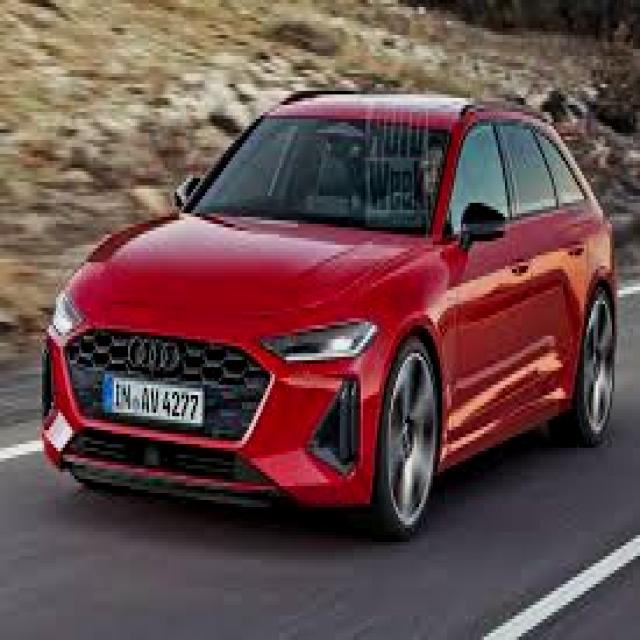SUV: (38, 90, 615, 544)
